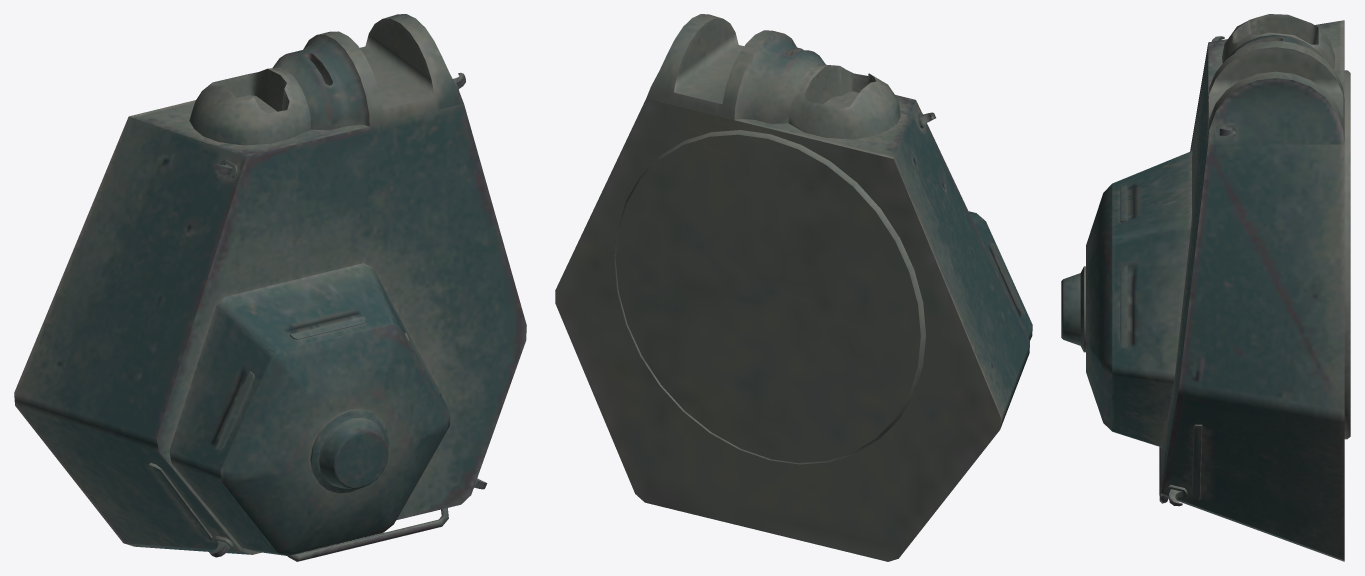
Rendered from Turret_02.glb.
3 views of the same model, side by side, from view 1: azimuth 30°, elevation 25°; view 2: azimuth 150°, elevation 25°; view 3: azimuth 270°, elevation 25° (orthographic). The views are drawn at different scales.
Visible parts, largest first — view 1: set_0_group_0; view 2: set_0_group_0; view 3: set_0_group_0.
Boxes of the visible parts, x1,y1,x2,y2 form: set_0_group_0: [14, 14, 526, 561]; set_0_group_0: [555, 14, 1032, 561]; set_0_group_0: [1061, 14, 1350, 561].
Size of the model in its own units: 1.65 by 1.64 by 0.9011.
1 material, 1 textured.
